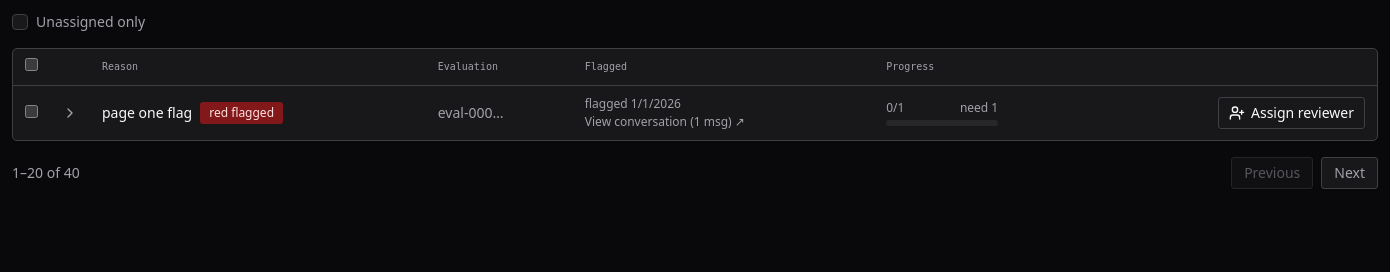
Test: ReviewQueuePage — batch selection › clears the selection when the page changes
Check: the link "page one flag" is shown, box top-left (102, 102), bottom-right (192, 122)
What coordinates should you click on to do the following:
click the checkbox named "Select all rows"
I would click on:
 (32, 65)
Its box is top-left (25, 58), bottom-right (38, 71).
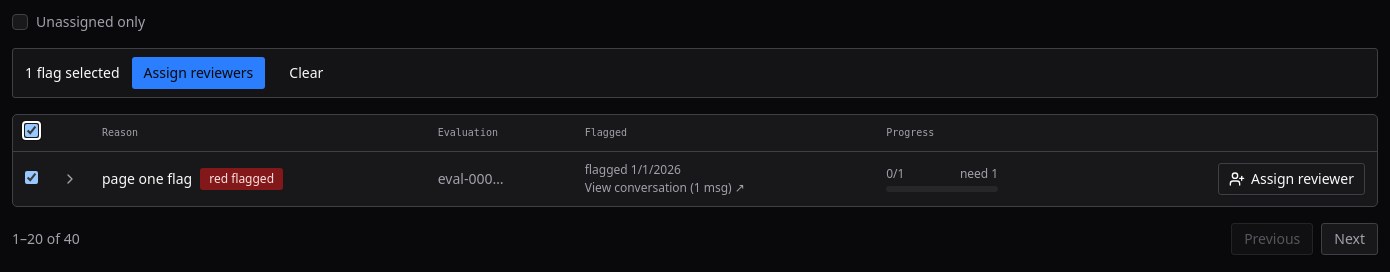
Check: the text "1 flag selected" is shown, box top-left (25, 63), bottom-right (120, 83)
What coordinates should you click on to do the following:
click the button "Next"
I would click on:
 (1350, 238)
Its box is top-left (1321, 222), bottom-right (1378, 254).
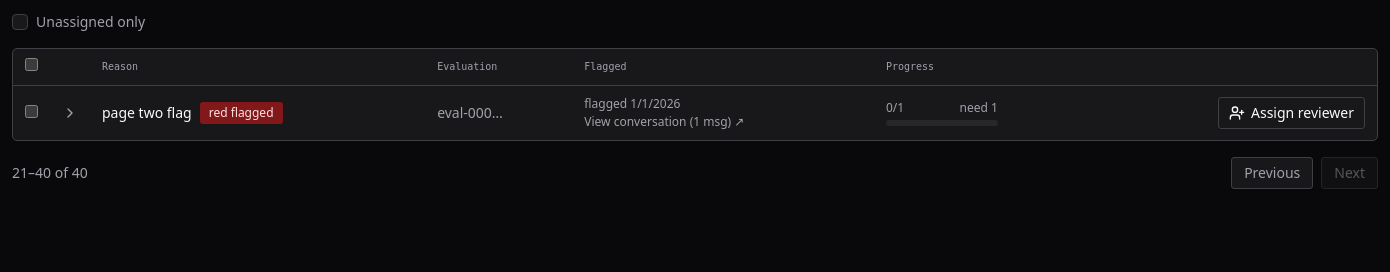
Check: the link "page two flag" is shown, box top-left (102, 102), bottom-right (192, 122)
Check: the text "flag selected" is gone
